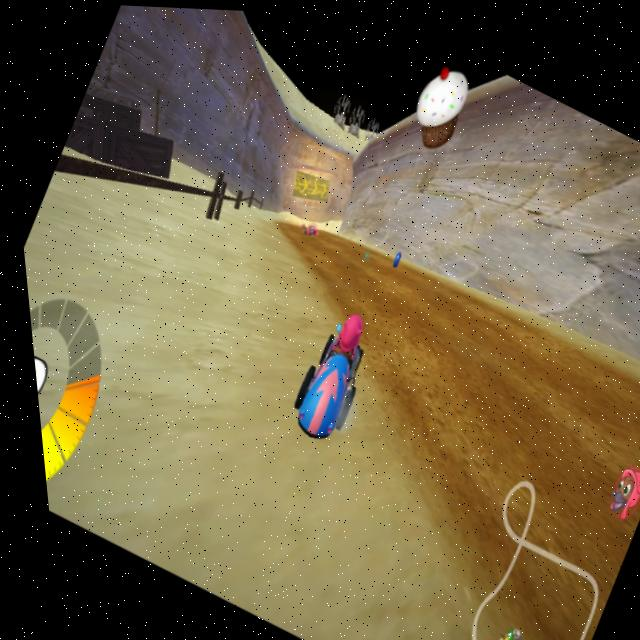nitro: (384, 241, 404, 264)
off_track: (8, 111, 328, 521)
player_kart: (263, 298, 384, 453)
track: (293, 232, 534, 380)
